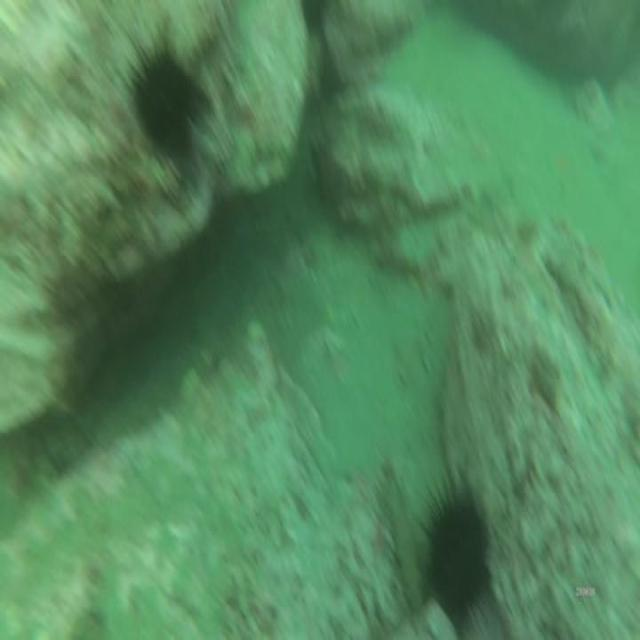echinus: (416, 468, 497, 634), (122, 25, 210, 171)
